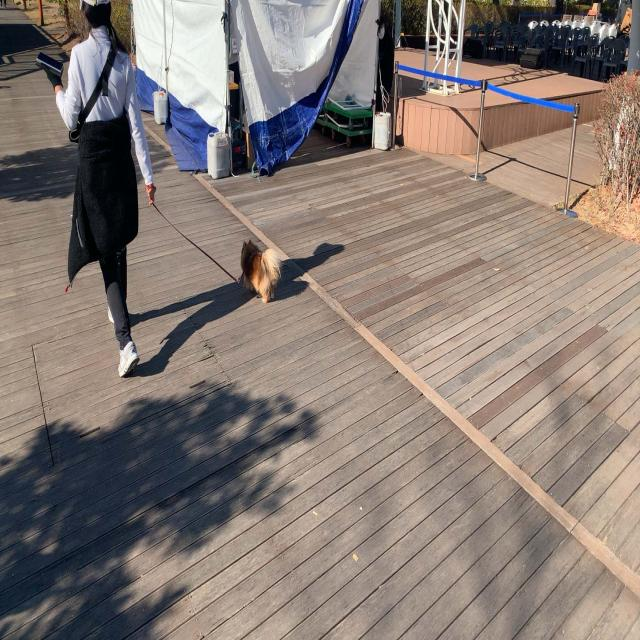Leashed_Dog: (118, 129, 280, 305)
